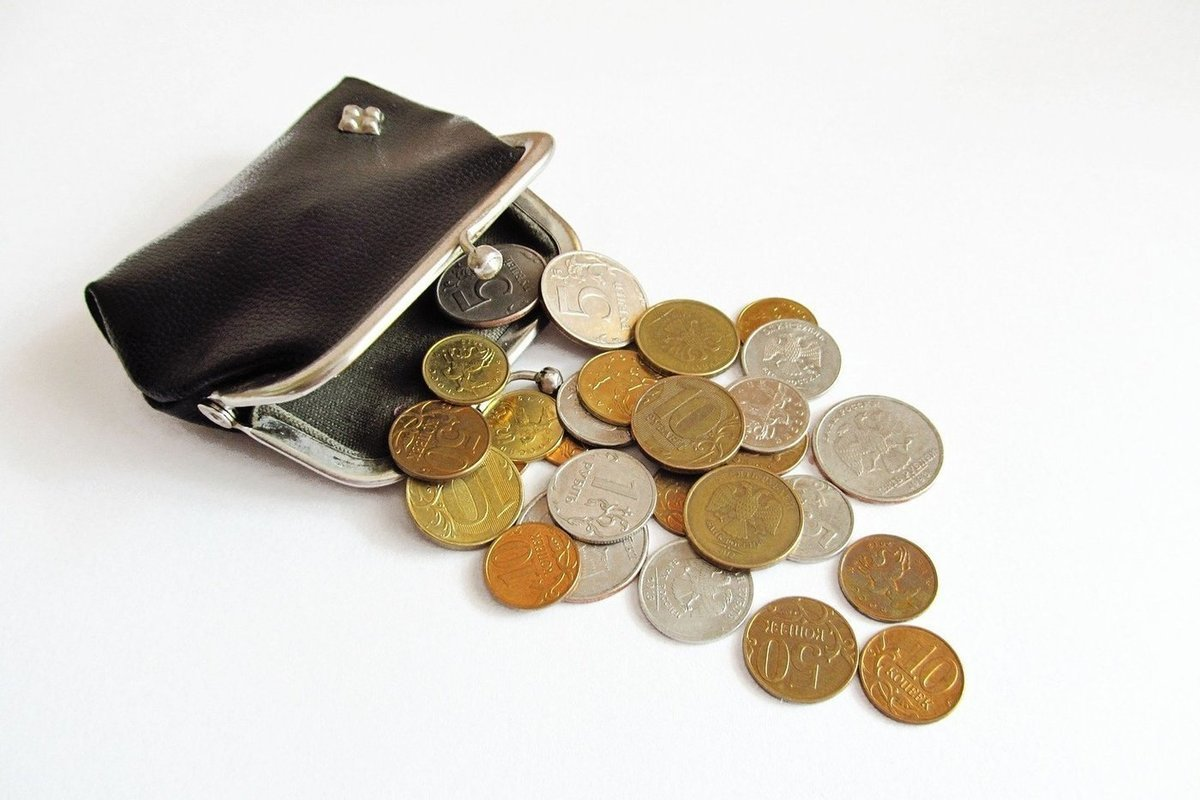coin: (517, 489, 649, 606), (813, 393, 945, 505), (639, 536, 753, 645), (685, 466, 801, 571), (744, 598, 856, 705), (407, 447, 522, 548), (630, 377, 744, 473), (545, 446, 658, 542), (541, 250, 649, 348), (858, 624, 962, 725), (437, 243, 552, 325), (840, 533, 939, 622), (763, 473, 857, 565), (481, 522, 581, 608), (634, 298, 741, 375), (745, 317, 843, 400), (388, 399, 488, 480), (577, 348, 680, 423), (419, 333, 512, 403), (730, 378, 810, 459), (485, 387, 565, 459), (555, 373, 631, 448), (736, 297, 819, 345), (652, 467, 692, 538)
